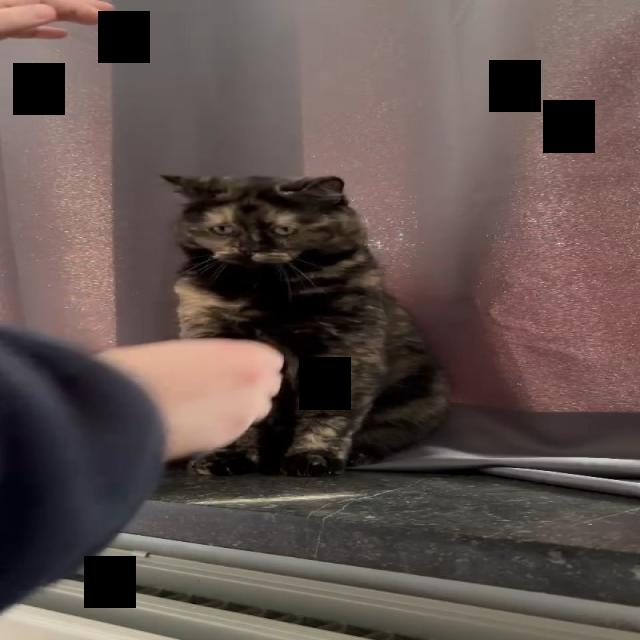authorized: (158, 173, 450, 477)
